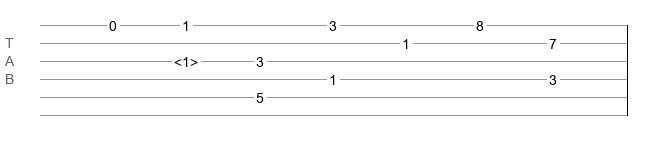0: (109, 18, 117, 28)
1: (182, 18, 190, 28), (329, 72, 337, 82), (402, 36, 410, 46)
3: (256, 54, 264, 64), (329, 18, 337, 28), (549, 72, 557, 82)
5: (256, 90, 264, 100)
7: (549, 36, 557, 46)
8: (476, 18, 484, 28)
harmonic: (174, 54, 198, 64)
